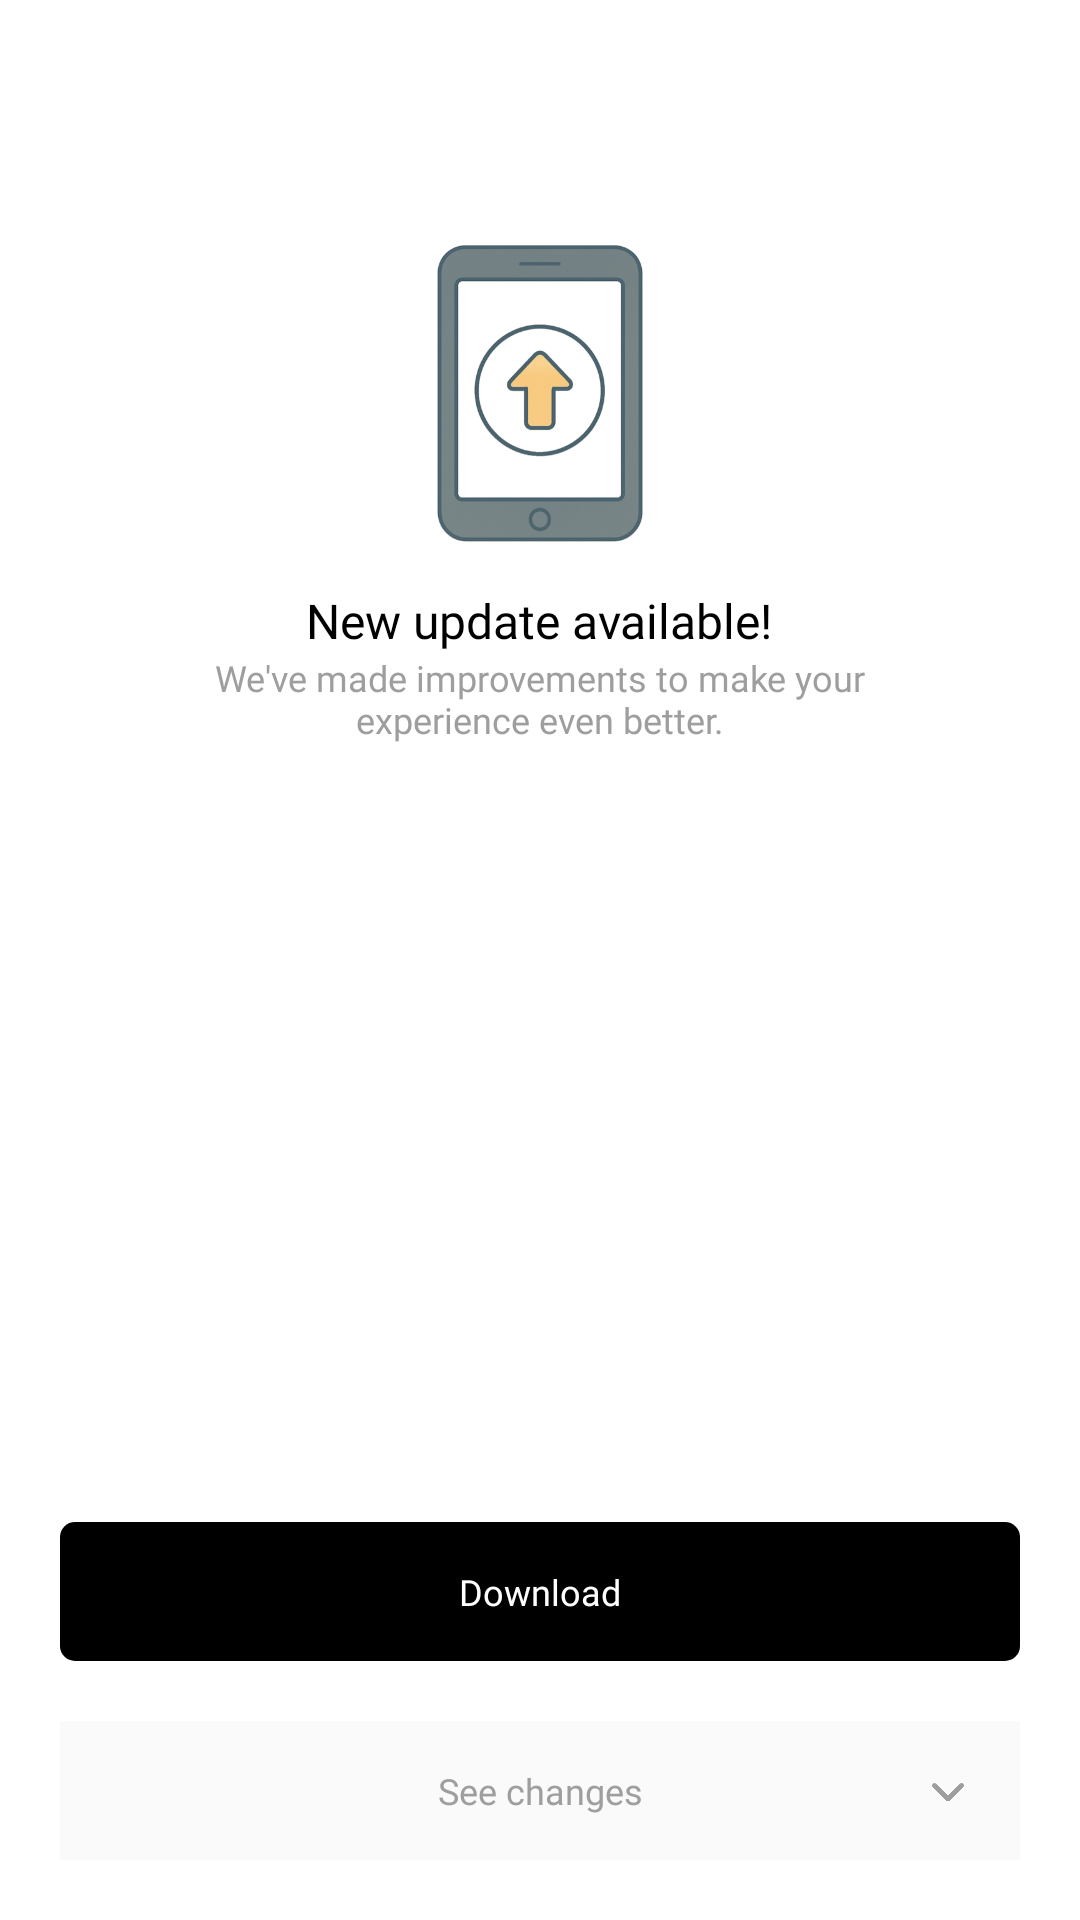

Named icons in this screenshot (1080 × 1920) and their bounding boxes, (x1, y1, x2, y2):
down arrow: (932, 1783, 964, 1801)
